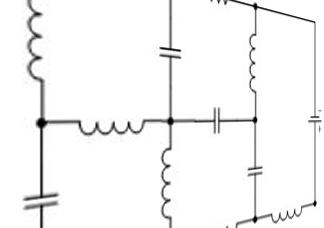inductor: (12, 0, 55, 83), (70, 112, 150, 142), (152, 143, 177, 226), (243, 28, 262, 108), (265, 196, 304, 226)
